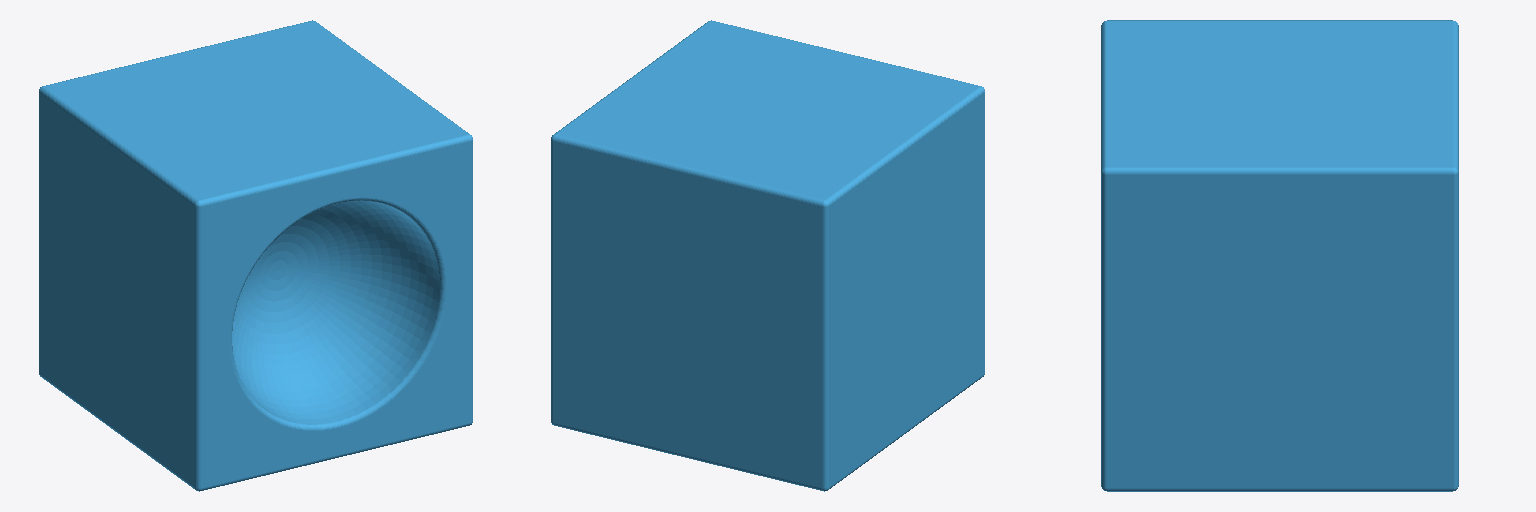
robot.urdf — generated_robot:
<robot name="generated_robot">
    <link name="cube_base" />
    <link name="cube_body">
        <visual name="door_frame-6">
            <origin xyz="0 0 0 " />
            <geometry>
                <mesh filename="cube__hole_12_12_12__r9.obj" />
            </geometry>
        </visual>
        <collision>
            <origin xyz="0 0 0 " />
            <geometry>
                <mesh filename="cube__hole_12_12_12__r9_collision.obj" />
            </geometry>
        </collision>
    </link>    
    <joint name="joint_0" type="fixed">
        <origin xyz="0 0 0" />
        <axis xyz="0 -1 0" />
        <child link="cube_base" />
        <parent link="cube_body" />
    </joint>
</robot>

--- What the picture shows (computed from the rendered views, not written in the file) ---
3 views of the same robot in one strip: view 1: azimuth 30°, elevation 25°; view 2: azimuth 150°, elevation 25°; view 3: azimuth 270°, elevation 25° (orthographic).
Model generated_robot with 2 links and 1 joints (1 fixed), rooted at cube_body, posed every joint at zero.
Links seen in each view (by area): view 1: cube_body; view 2: cube_body; view 3: cube_body.
Boxes of the visible links, x1,y1,x2,y2 form: cube_body: (39, 20, 472, 491); cube_body: (551, 20, 984, 491); cube_body: (1101, 20, 1458, 491).
Size in the robot's own frame: 120 by 120 by 120 metres.
Meshes: 1 distinct files referenced, 1 mesh visuals loaded (1 OBJ).